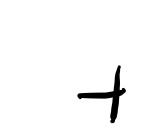plus: (77, 64, 125, 125)
